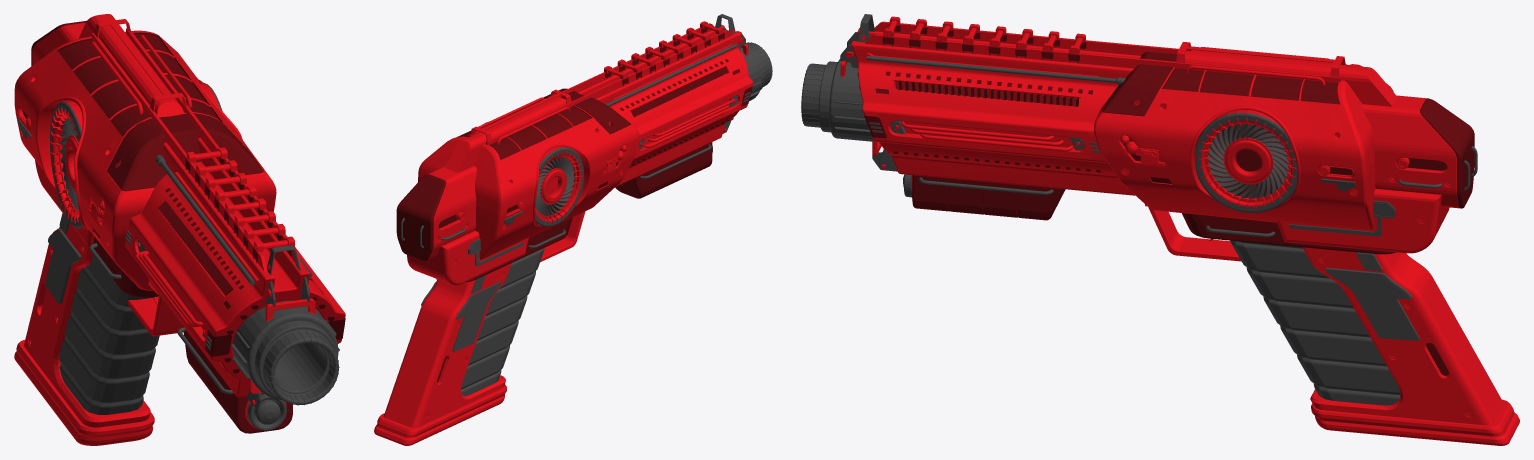
The model's file is Gun.fbx.
The picture shows the model from 3 angles, left to right: view 1: azimuth 30°, elevation 25°; view 2: azimuth 150°, elevation 25°; view 3: azimuth 270°, elevation 25°; orthographic projection. The views are drawn at different scales.
Visible parts, largest first — view 1: Gun; view 2: Gun; view 3: Gun.
Part boxes in pixels (x1,y1,x2,y2): Gun: (14, 14, 345, 445); Gun: (374, 14, 772, 445); Gun: (801, 14, 1519, 445).
Size of the model in its own units: 448 by 732 by 1336.
